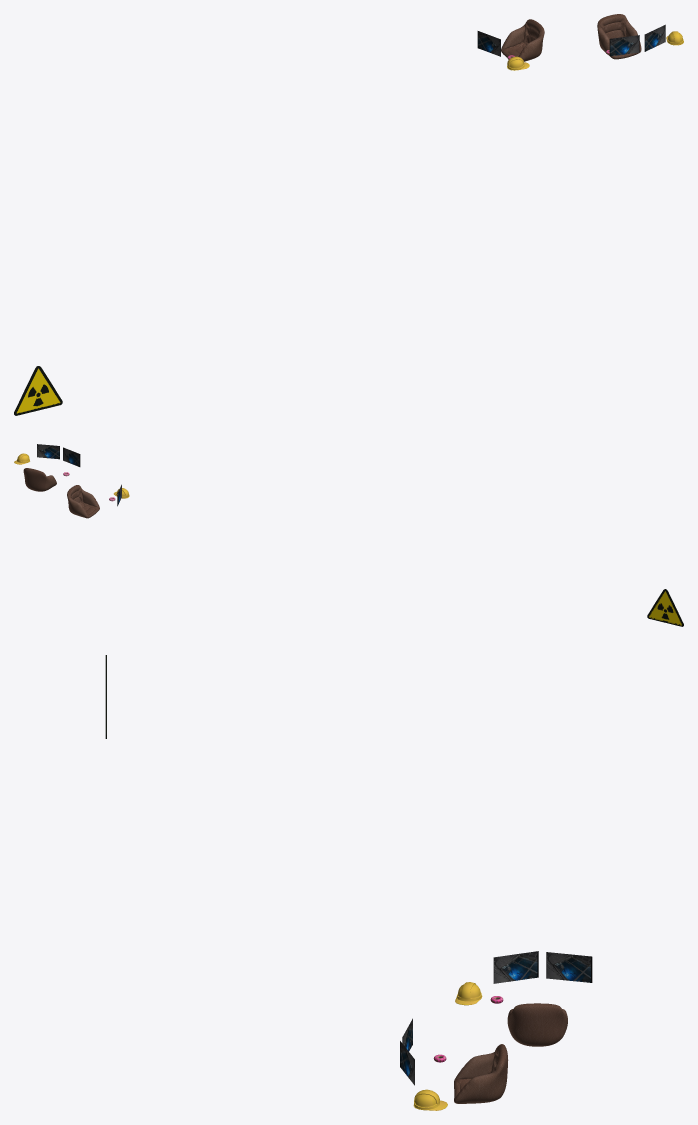
Rendered from material_plastico.fbx.
The picture shows the model from 3 angles, top to bottom: view 1: azimuth 30°, elevation 25°; view 2: azimuth 150°, elevation 25°; view 3: azimuth 270°, elevation 25°; orthographic projection. The views are drawn at different scales.
Visible parts, largest first — view 1: plasticocuero, plasticopantalla, plasticosenalrad; view 2: plasticocuero, plasticosenalrad, plasticopantalla; view 3: plasticocuero, plasticopantalla, plasticoamarillo.
Part boxes in pixels (x1,y1,x2,y2): plasticocuero: [501, 14, 641, 61]; plasticopantalla: [477, 24, 665, 56]; plasticosenalrad: [14, 366, 62, 415]; plasticocuero: [23, 468, 99, 518]; plasticosenalrad: [647, 589, 683, 626]; plasticopantalla: [37, 444, 121, 506]; plasticocuero: [454, 1003, 567, 1103]; plasticopantalla: [400, 951, 592, 1085]; plasticoamarillo: [413, 982, 482, 1110].
Size of the model in its own units: 13303 by 2180 by 4783.
5 materials, 5 textured.
